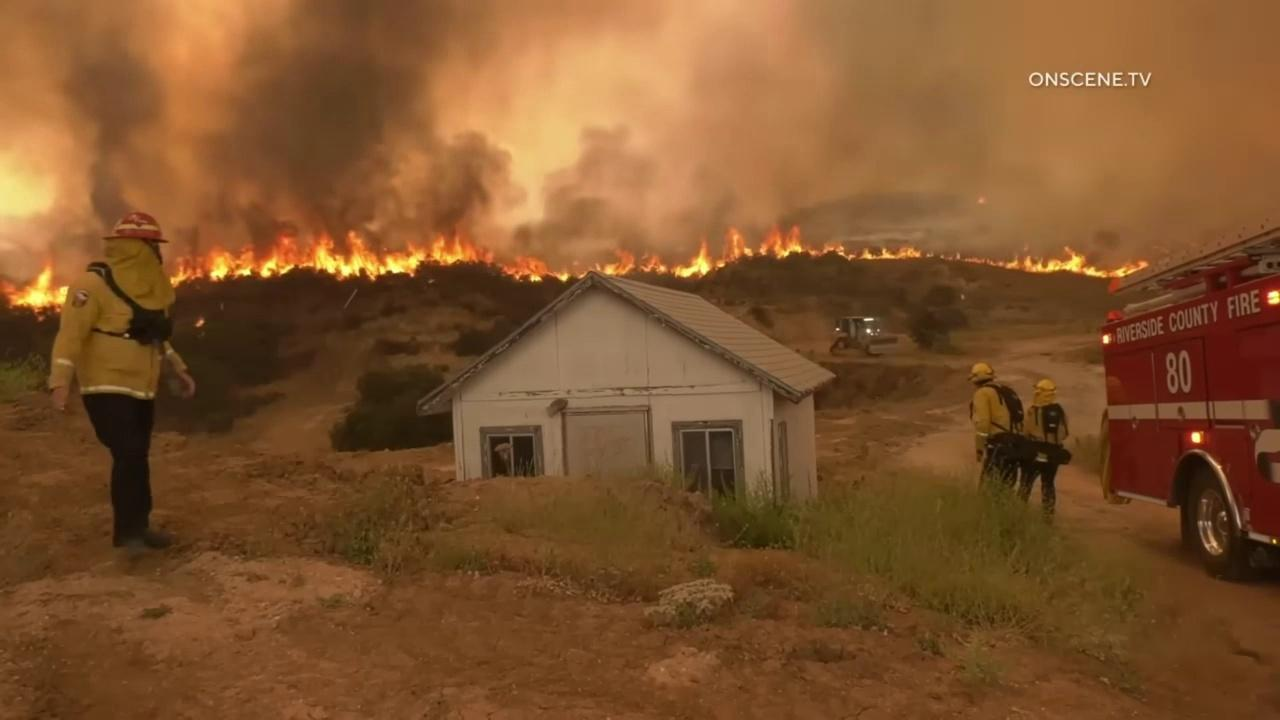fire: (168, 226, 573, 293), (577, 220, 935, 289), (940, 242, 1148, 278), (0, 252, 70, 319), (195, 317, 205, 330), (976, 195, 988, 204)
smoke: (0, 0, 1280, 270)
